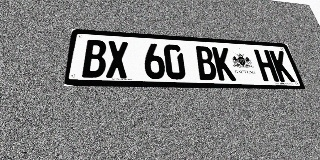0: (163, 44, 186, 80)
6: (144, 43, 166, 79)
B: (82, 39, 107, 78), (194, 46, 218, 80)
H: (253, 49, 279, 82)
K: (269, 50, 295, 82), (212, 47, 236, 81)
X: (106, 41, 128, 78)
